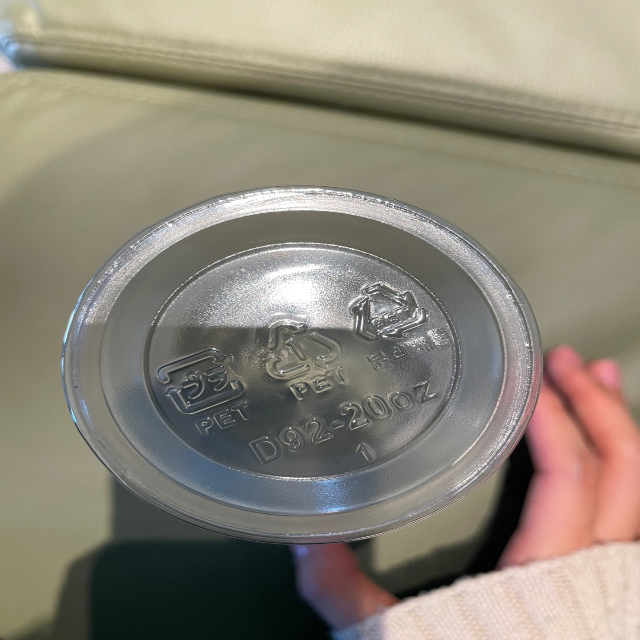pet: (350, 272, 451, 370), (153, 347, 256, 436), (255, 312, 355, 402)
